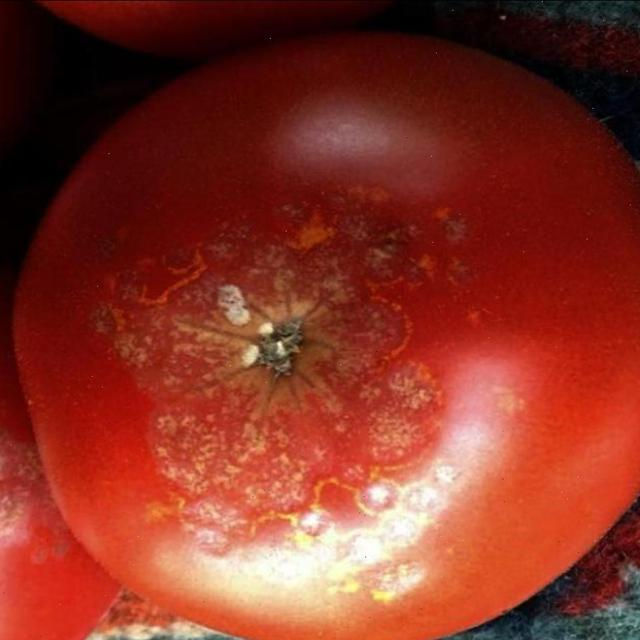Blossom End Rot Fruit: (54, 134, 324, 371)
